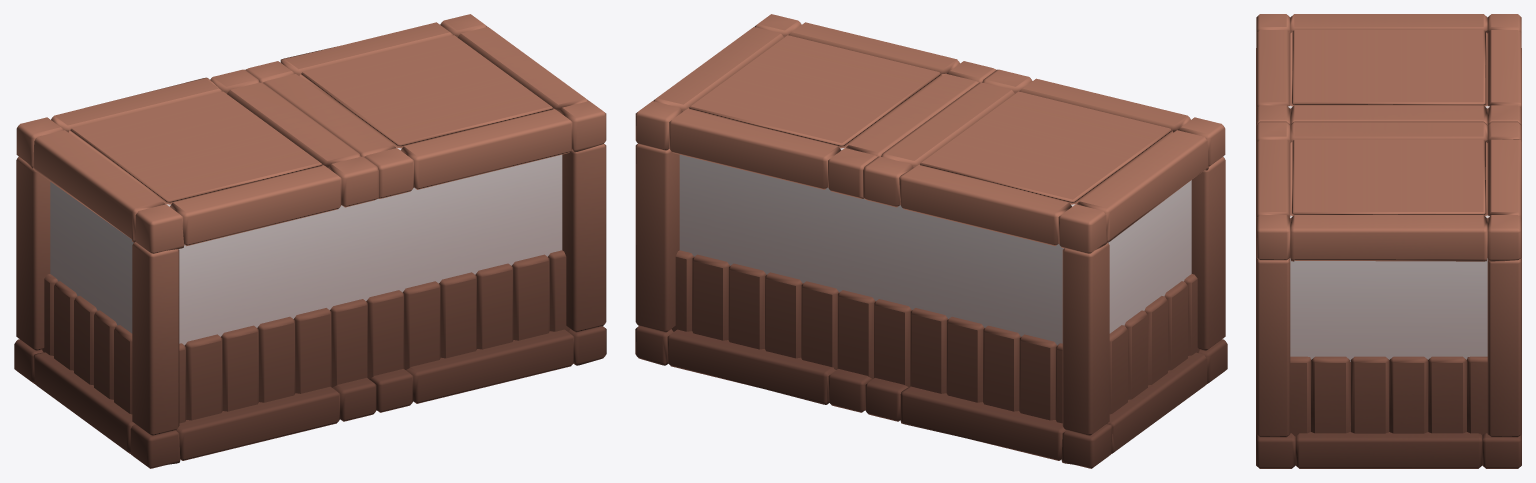
File: SM_Wood_Body_06.fbx
3 renders of one model, left to right at view 1: azimuth 30°, elevation 25°; view 2: azimuth 150°, elevation 25°; view 3: azimuth 270°, elevation 25°, orthographic. The views are drawn at different scales.
Parts seen in each view (by area): view 1: SM_Wood_Body_06; view 2: SM_Wood_Body_06; view 3: SM_Wood_Body_06.
Part boxes in pixels (box(x1,y1,x2,y2)): SM_Wood_Body_06: box(14, 14, 606, 468); SM_Wood_Body_06: box(635, 14, 1227, 468); SM_Wood_Body_06: box(1256, 14, 1521, 468).
Bounding box in the file's own units: 2 × 1.03 × 1.03.
